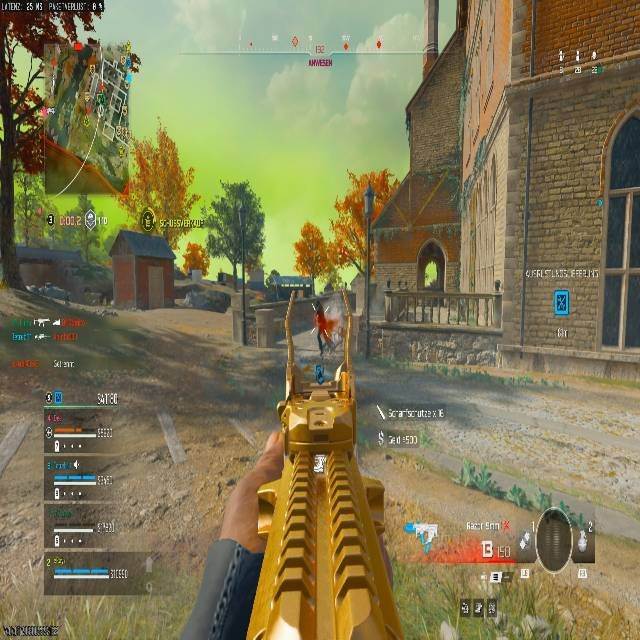player: (314, 305, 335, 353), (314, 363, 323, 383)
